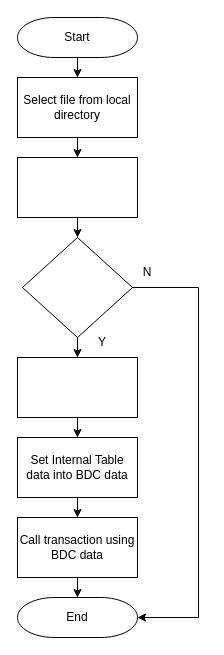
The diagram is 224 pixels wide and 655 high, and some of its shapes have lost their labels. Here are the shapes that lost their labels. From the top down, the centre of each, then its label:
the point at 77,187: Upload file
the point at 77,287: Does it have a data?
the point at 77,387: Process data into Internal Table
